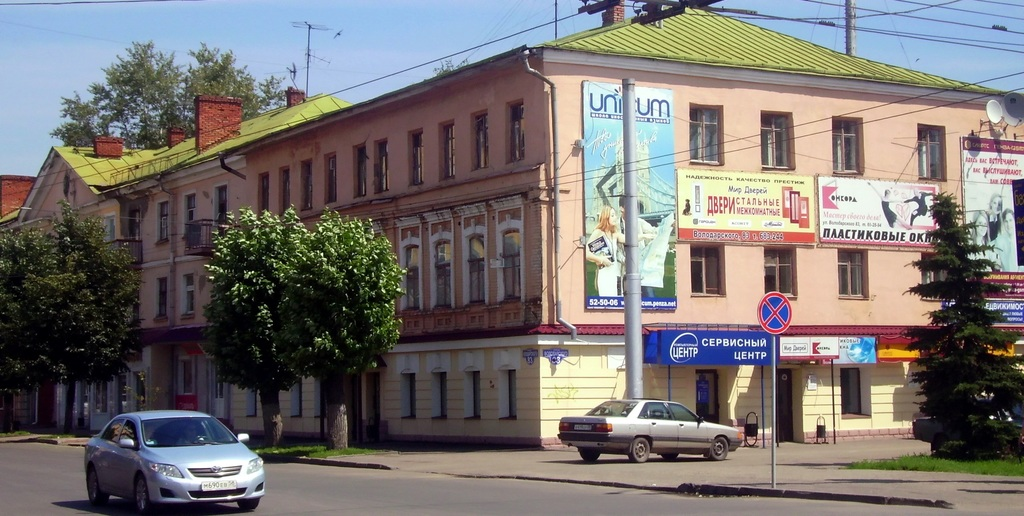Car: (78, 404, 267, 515), (565, 393, 730, 467)
